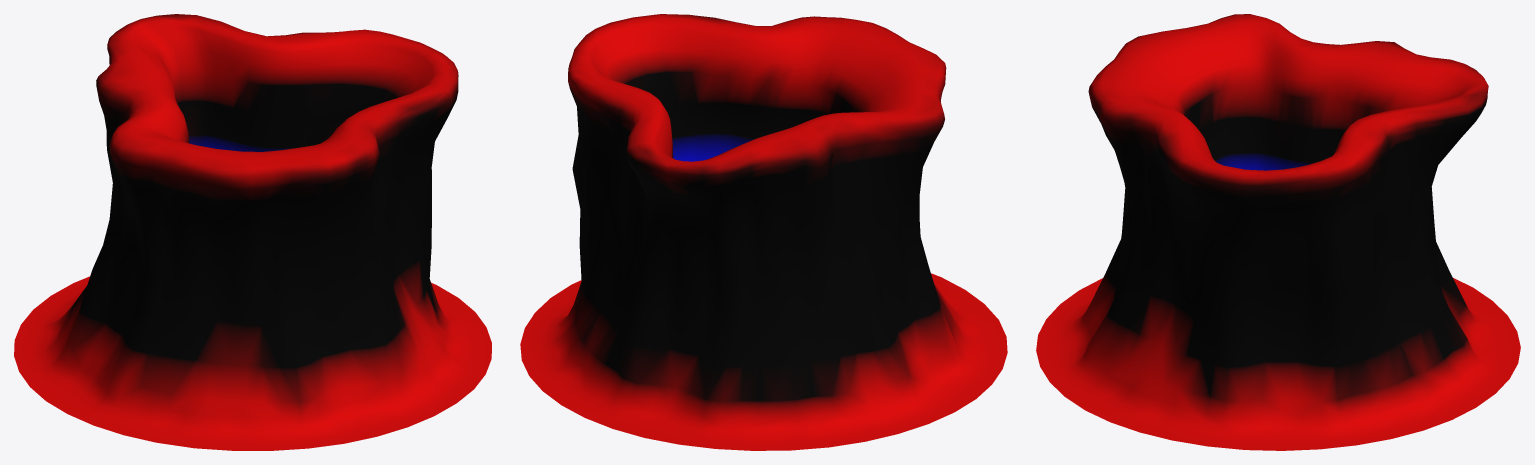
File: GroundObject06D.fbx
3 views of the same model, side by side, from view 1: azimuth 30°, elevation 25°; view 2: azimuth 150°, elevation 25°; view 3: azimuth 270°, elevation 25° (orthographic).
Visible parts, largest first — view 1: GroundObject06D; view 2: GroundObject06D; view 3: GroundObject06D.
Boxes of the visible parts, x1,y1,x2,y2 form: GroundObject06D: (14,14,491,450); GroundObject06D: (520,14,1007,450); GroundObject06D: (1036,14,1520,450).
Size of the model in its own units: 3.36 by 2 by 3.35.
